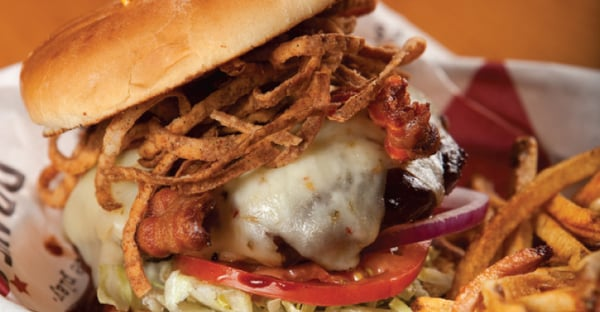soup: (15, 2, 467, 307)
